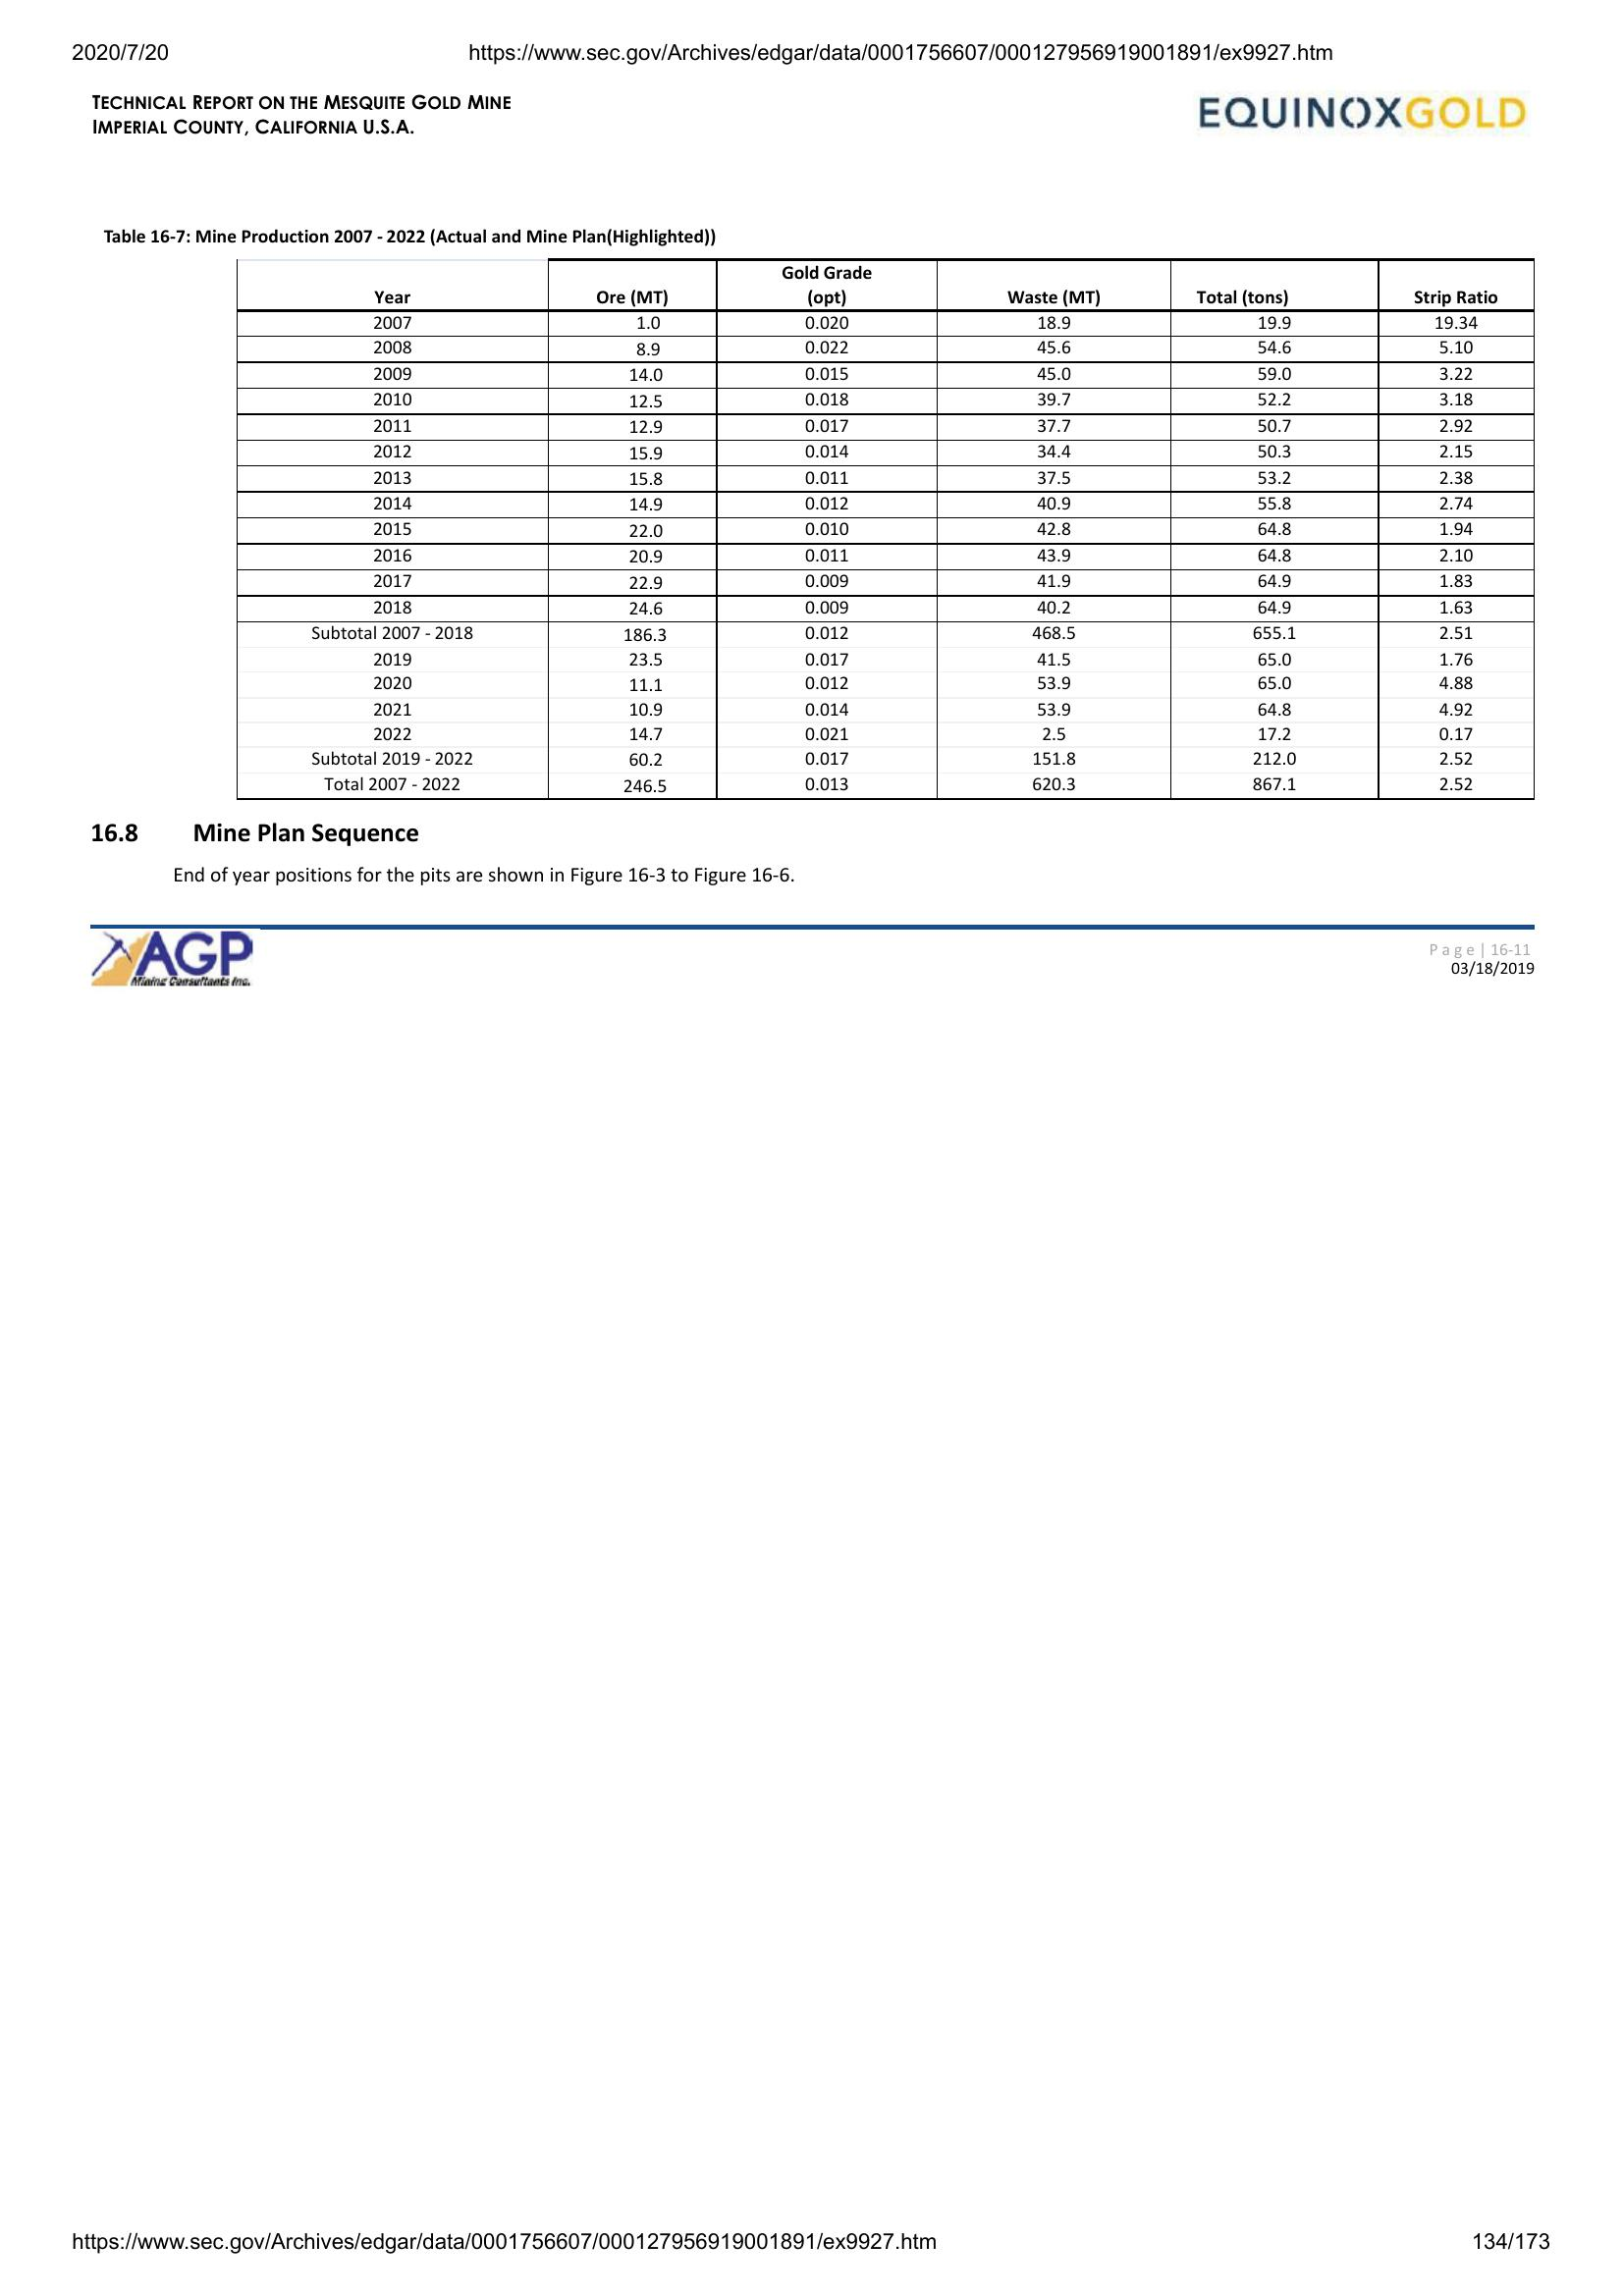table: (230, 253, 1540, 806)
